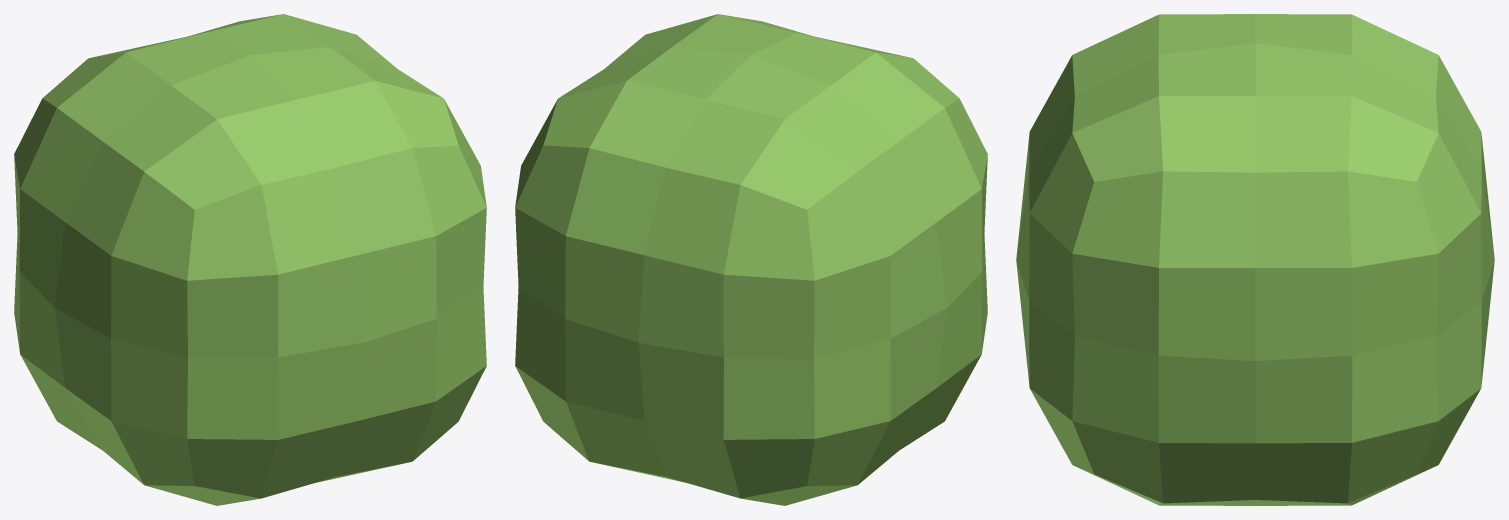
Rendered from Thuja_BushTree_s_06_LOD.fbx.
3 views of the same model, side by side, from view 1: azimuth 30°, elevation 25°; view 2: azimuth 150°, elevation 25°; view 3: azimuth 270°, elevation 25° (orthographic). The views are drawn at different scales.
Parts seen in each view (by area): view 1: Thuja_BushTree_s_06_LOD0; view 2: Thuja_BushTree_s_06_LOD0; view 3: Thuja_BushTree_s_06_LOD0.
Part boxes in pixels (box(x1,y1,x2,y2)): Thuja_BushTree_s_06_LOD0: box(14, 14, 486, 505); Thuja_BushTree_s_06_LOD0: box(515, 14, 987, 505); Thuja_BushTree_s_06_LOD0: box(1016, 14, 1494, 505).
Size of what is drawn, in the model's own units: 176 by 176 by 176.
